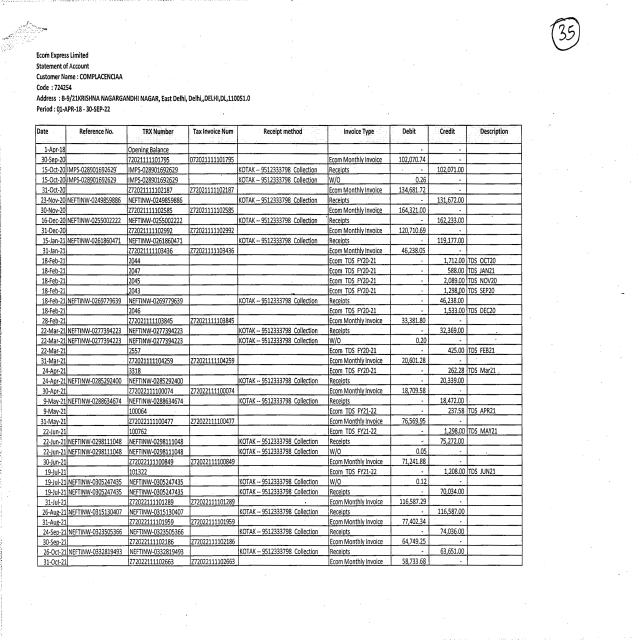page-number: (464, 2, 638, 122)
